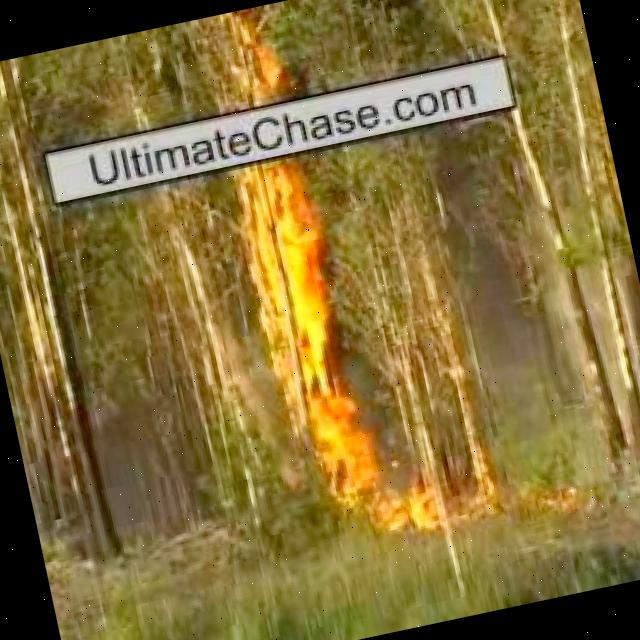fire: (239, 152, 358, 454), (315, 435, 447, 556), (225, 11, 295, 112)
